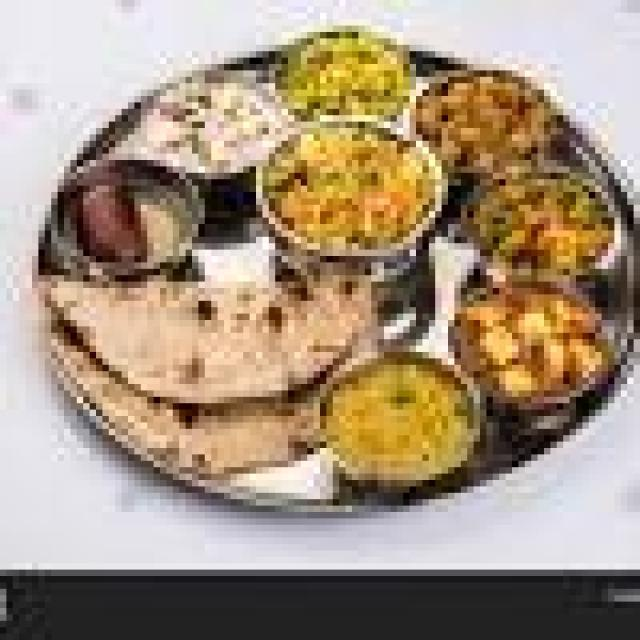dal: (254, 112, 440, 265), (316, 341, 488, 504), (273, 16, 412, 156)
sweet: (128, 62, 271, 186), (63, 163, 208, 285)
veg-fry: (408, 56, 556, 184)
